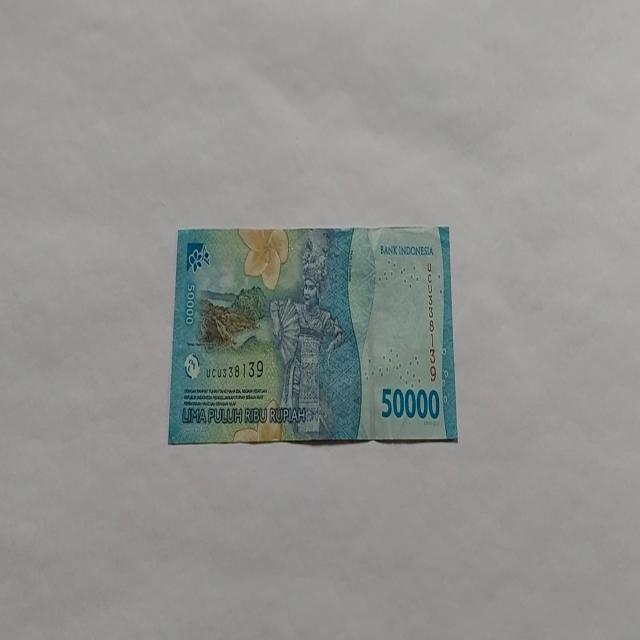lima puluh ribu rupiah: (167, 224, 458, 446)
